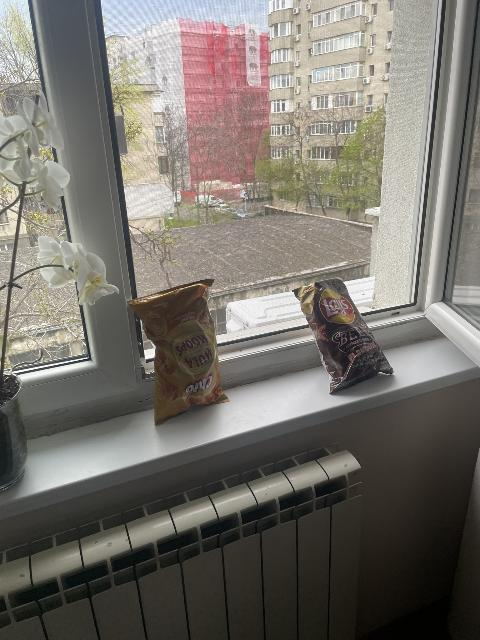Chio Hula Hoops Cheese 70g: (126, 280, 228, 423)
Lays Beef Grilled Ribs 125g: (294, 280, 392, 395)
